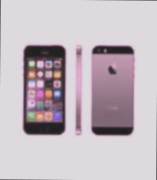iphone: (91, 46, 135, 136), (22, 46, 65, 136), (75, 45, 81, 136)
